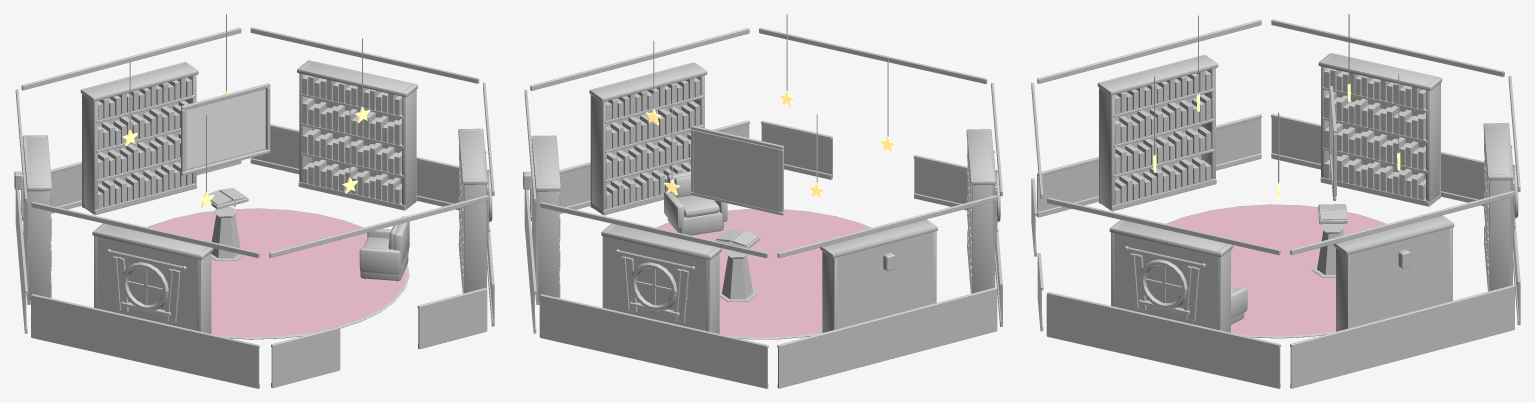
Rendered from zon_room_poems.glb.
3 views of the same model, side by side, from view 1: azimuth 30°, elevation 25°; view 2: azimuth 150°, elevation 25°; view 3: azimuth 270°, elevation 25° (orthographic). The views are drawn at different scales.
Parts seen in each view (by area): view 1: SM_zon_room_poems_kit_interior_xm1_zm1, SM_zon_room_poems_room_rug_xm1_zm1, SCREEN_fur_screen_poems__0, ANIM_fur_bookstand_poems_book__0; view 2: SM_zon_room_poems_kit_interior_xm1_zm1, SM_zon_room_poems_room_rug_xm1_zm1, ANIM_fur_bookstand_poems_book__0; view 3: SM_zon_room_poems_kit_interior_xm1_zm1, SM_zon_room_poems_room_rug_xm1_zm1, ANIM_fur_bookstand_poems_book__0.
Part boxes in pixels (x1,y1,x2,y2): SM_zon_room_poems_kit_interior_xm1_zm1: (14, 14, 494, 388); SM_zon_room_poems_room_rug_xm1_zm1: (149, 209, 406, 337); SCREEN_fur_screen_poems__0: (186, 89, 264, 169); ANIM_fur_bookstand_poems_book__0: (203, 188, 248, 209); SM_zon_room_poems_kit_interior_xm1_zm1: (523, 14, 1002, 388); SM_zon_room_poems_room_rug_xm1_zm1: (658, 209, 870, 337); ANIM_fur_bookstand_poems_book__0: (715, 229, 760, 248); SM_zon_room_poems_kit_interior_xm1_zm1: (1031, 14, 1520, 388); SM_zon_room_poems_room_rug_xm1_zm1: (1167, 205, 1385, 336); ANIM_fur_bookstand_poems_book__0: (1318, 204, 1347, 224).
Bounding box in the file's own units: 11.53 × 4.99 × 10.3.
